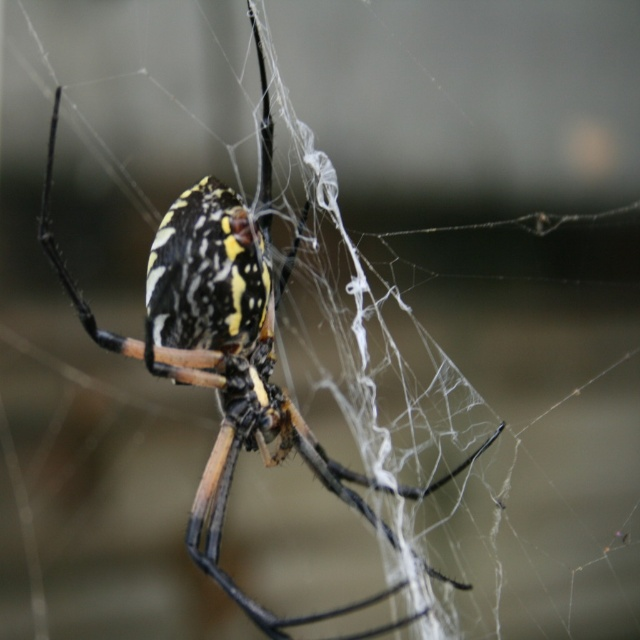Spider: (38, 0, 506, 640)
